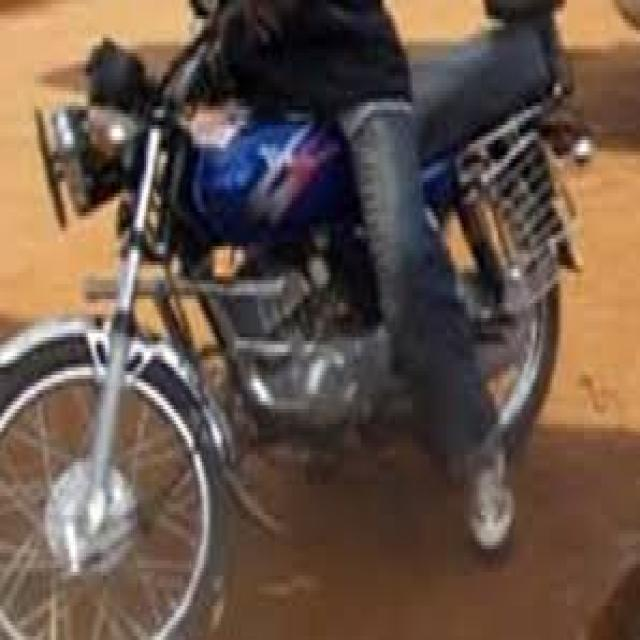bodaboda: (2, 15, 595, 640)
